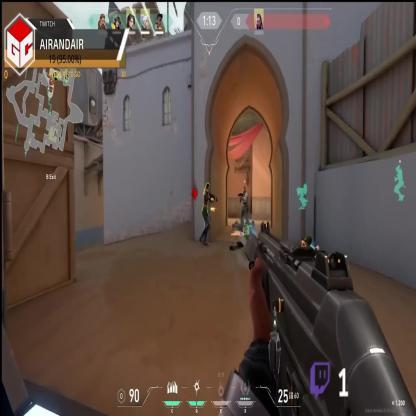enemy: (199, 184, 213, 248)
enemy_head: (206, 183, 210, 192)
